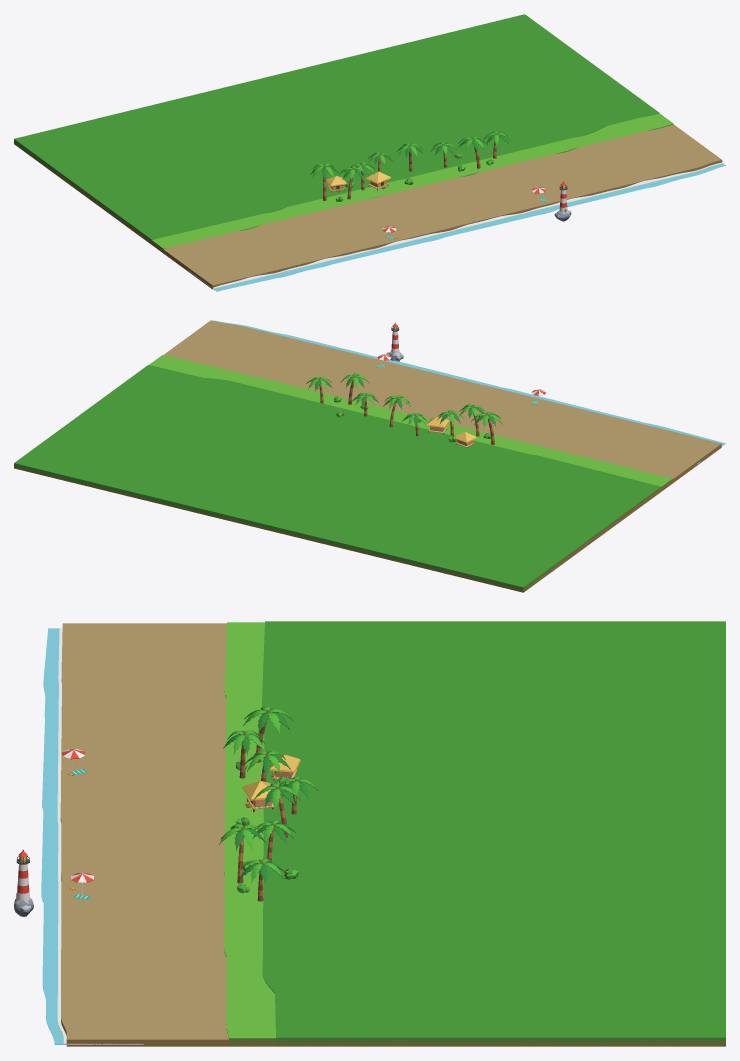
Rendered from env_harbor.fbx.
3 renders of one model, top to bottom at view 1: azimuth 30°, elevation 25°; view 2: azimuth 150°, elevation 25°; view 3: azimuth 270°, elevation 25°, orthographic. The views are drawn at different scales.
Parts seen in each view (by area): view 1: env_harbor; view 2: env_harbor; view 3: env_harbor.
Boxes of the visible parts, left/top/right/bottom form: env_harbor: left=14, top=14, right=725, bottom=291; env_harbor: left=14, top=320, right=725, bottom=592; env_harbor: left=14, top=621, right=725, bottom=1046.
Size of the model in its own units: 44 by 3.55 by 31.82.
